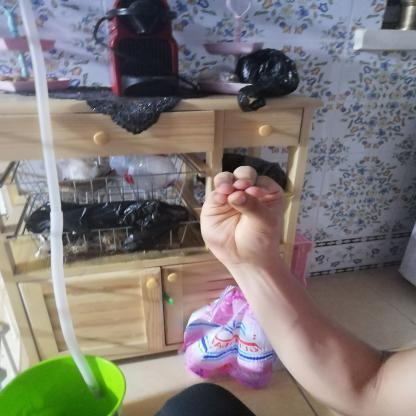HA: (183, 160, 309, 272)
